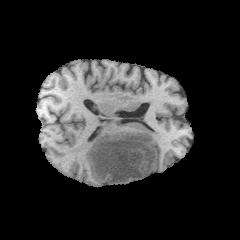glioma: (86, 131, 156, 184)
